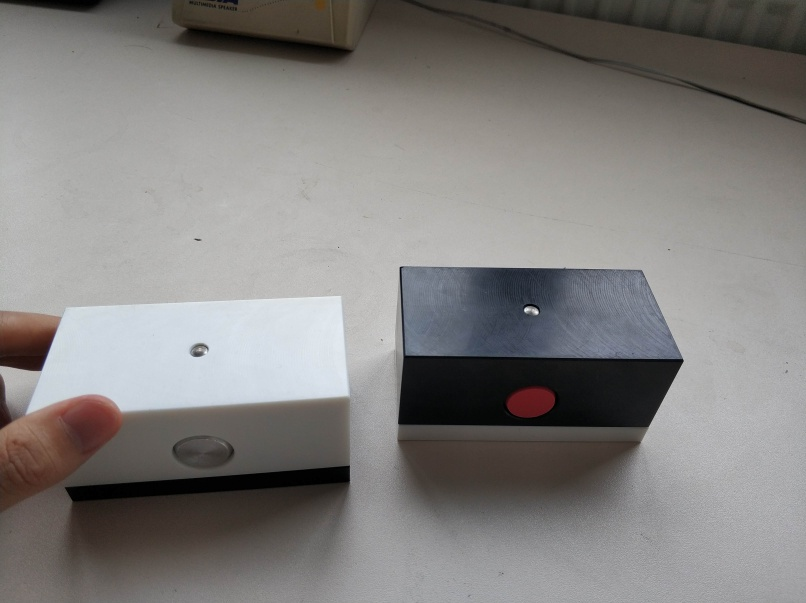black+white+silver: (23, 294, 351, 503)
white+black+red: (394, 264, 687, 443)
